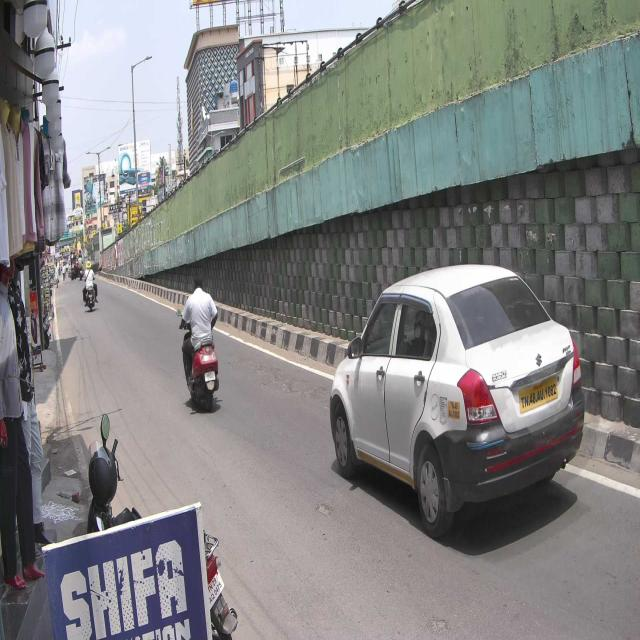single_rider: (177, 272, 221, 412)
